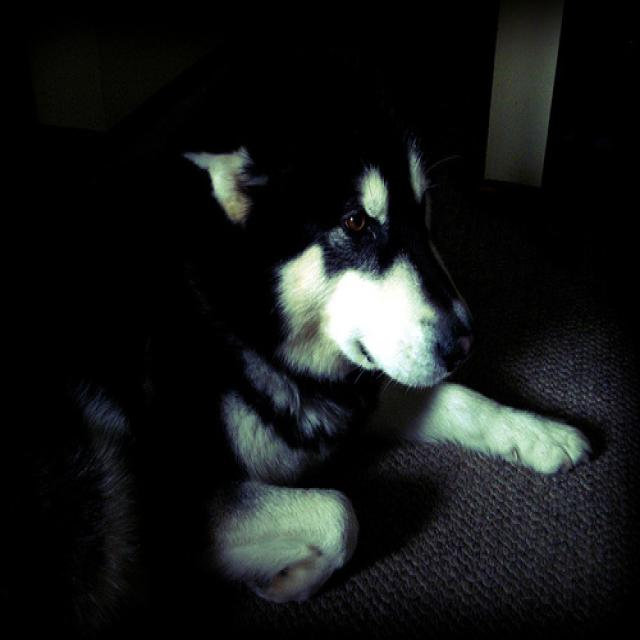Dog: (102, 47, 624, 598)
